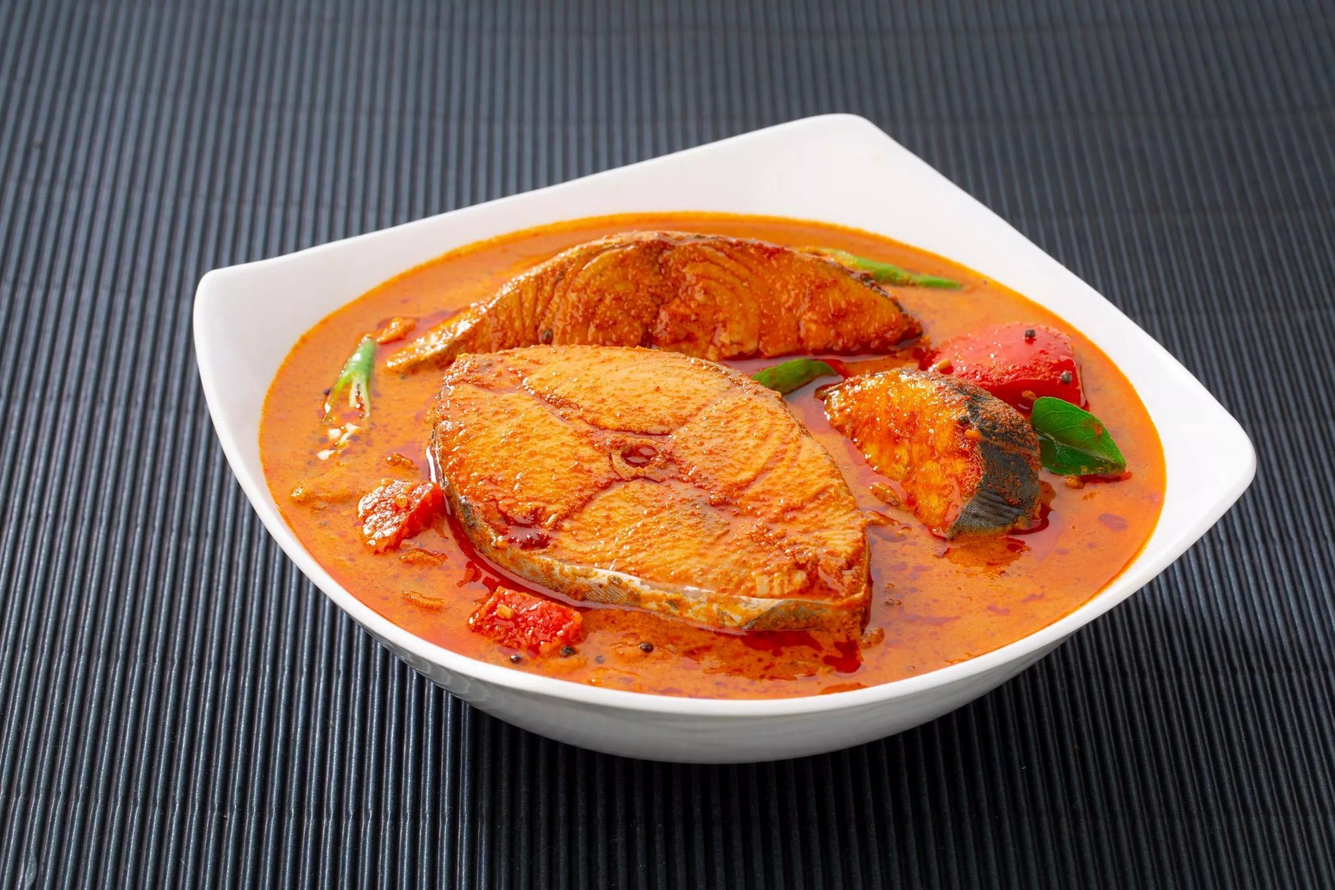FishCurry: (256, 212, 1165, 700)
